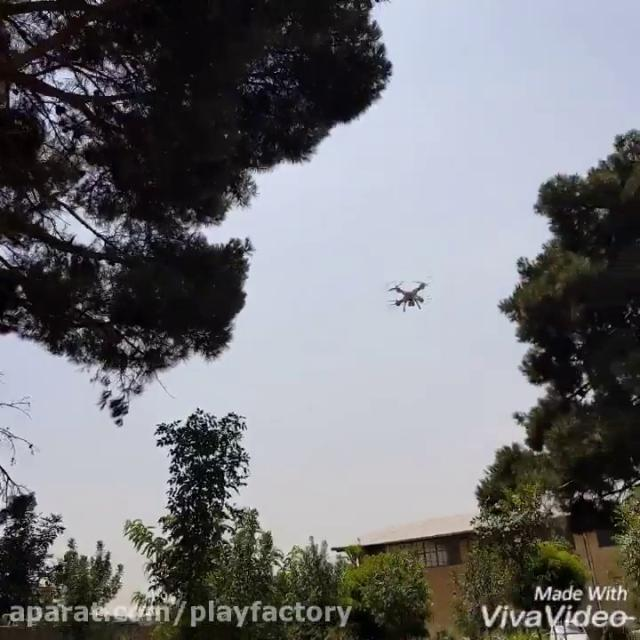drone: (381, 270, 439, 315)
